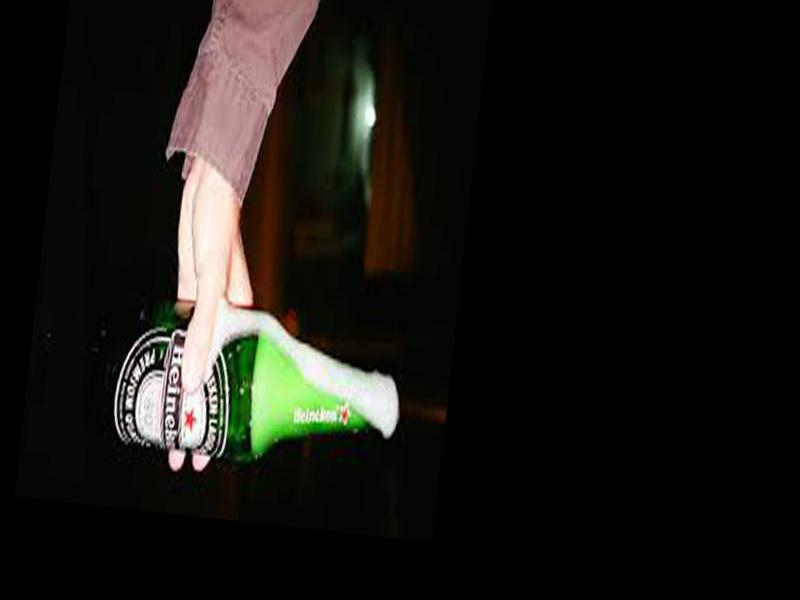Beer: (101, 292, 394, 481)
